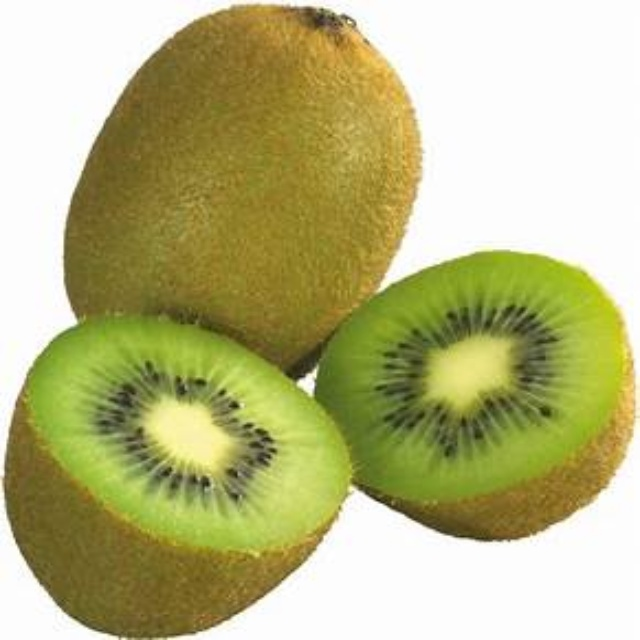kiwi: (64, 5, 417, 389), (14, 325, 344, 635), (320, 231, 639, 542)
